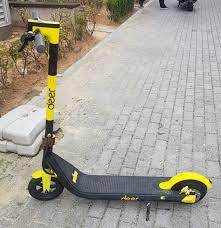kick_board: (19, 12, 213, 205)
kick_body: (81, 175, 166, 200)
kick_handler: (19, 10, 60, 52)
kick_neck: (43, 52, 57, 150)
kick_wheel: (169, 172, 212, 205), (30, 174, 60, 198)
